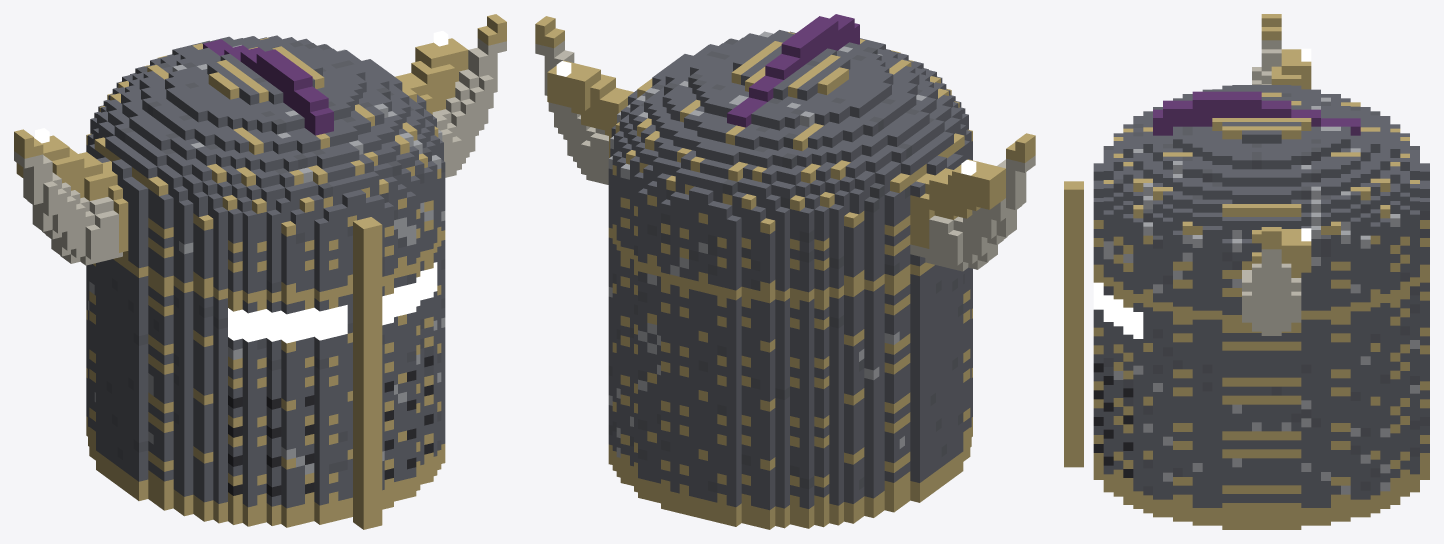
File: plate_legendary_helmet.glb
3 views of the same model, side by side, from view 1: azimuth 30°, elevation 25°; view 2: azimuth 150°, elevation 25°; view 3: azimuth 270°, elevation 25° (orthographic). The views are drawn at different scales.
Visible parts, largest first — view 1: plate_legendary_helmet; view 2: plate_legendary_helmet; view 3: plate_legendary_helmet.
Boxes of the visible parts, left/top/right/bottom form: plate_legendary_helmet: left=14, top=14, right=506, bottom=529; plate_legendary_helmet: left=535, top=14, right=1035, bottom=529; plate_legendary_helmet: left=1064, top=14, right=1429, bottom=529.
Bounding box in the file's own units: 0.624 × 0.492 × 0.444.
